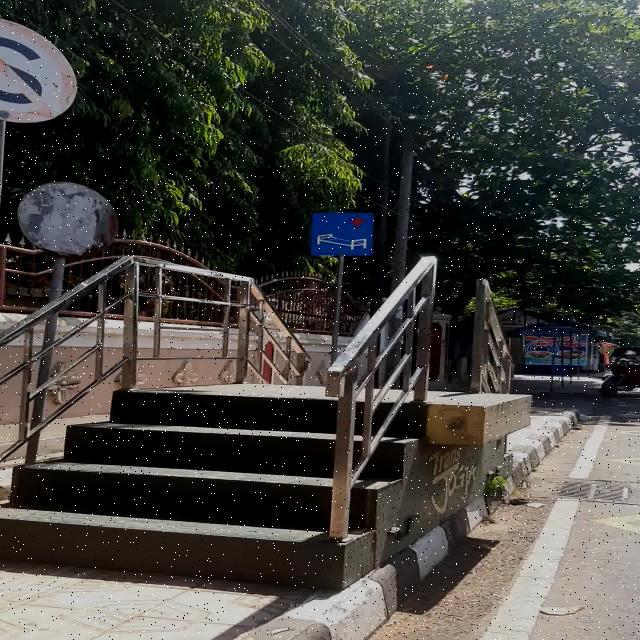Rumah Sakit: (310, 212, 373, 256)
